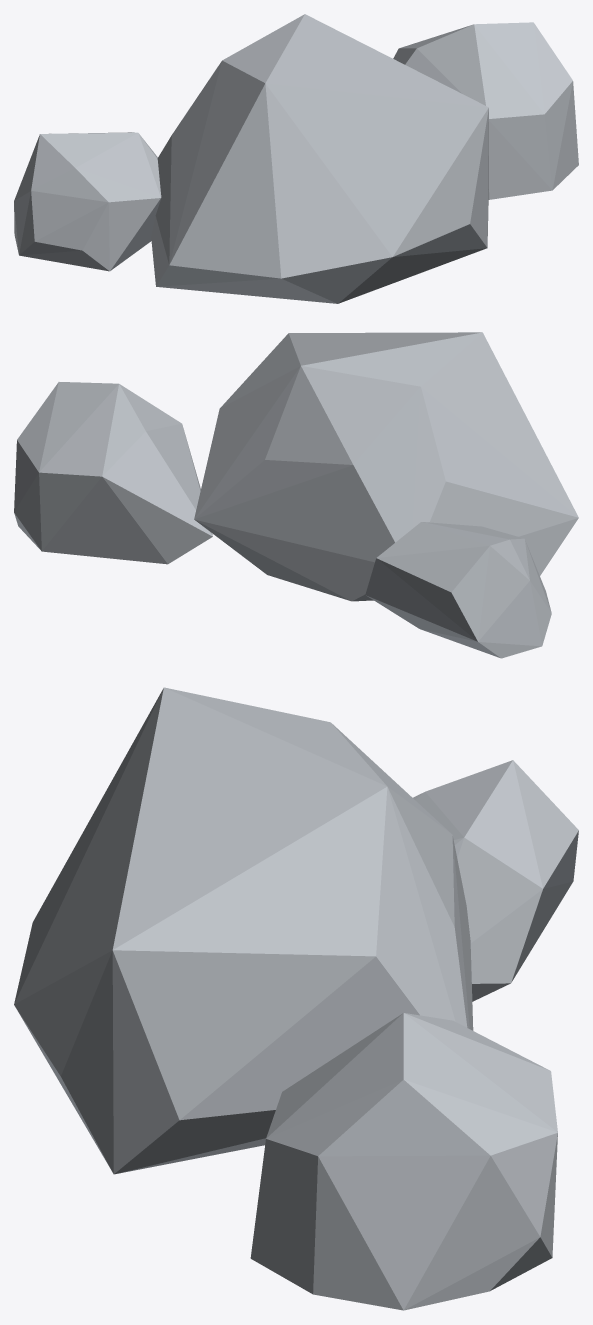
The model's file is Rock_Small.glb.
The picture shows the model from 3 angles, top to bottom: view 1: azimuth 30°, elevation 25°; view 2: azimuth 150°, elevation 25°; view 3: azimuth 270°, elevation 25°; orthographic projection. The views are drawn at different scales.
Parts seen in each view (by area): view 1: Rock_Small_Mesh; view 2: Rock_Small_Mesh; view 3: Rock_Small_Mesh.
Boxes of the visible parts, bbox=[...] form: Rock_Small_Mesh: bbox=[14, 14, 578, 303]; Rock_Small_Mesh: bbox=[14, 332, 578, 658]; Rock_Small_Mesh: bbox=[14, 687, 578, 1310].
Size of the model in its own units: 1.63 by 0.5937 by 0.9328.
Materials: 1 (1 with a texture image).
